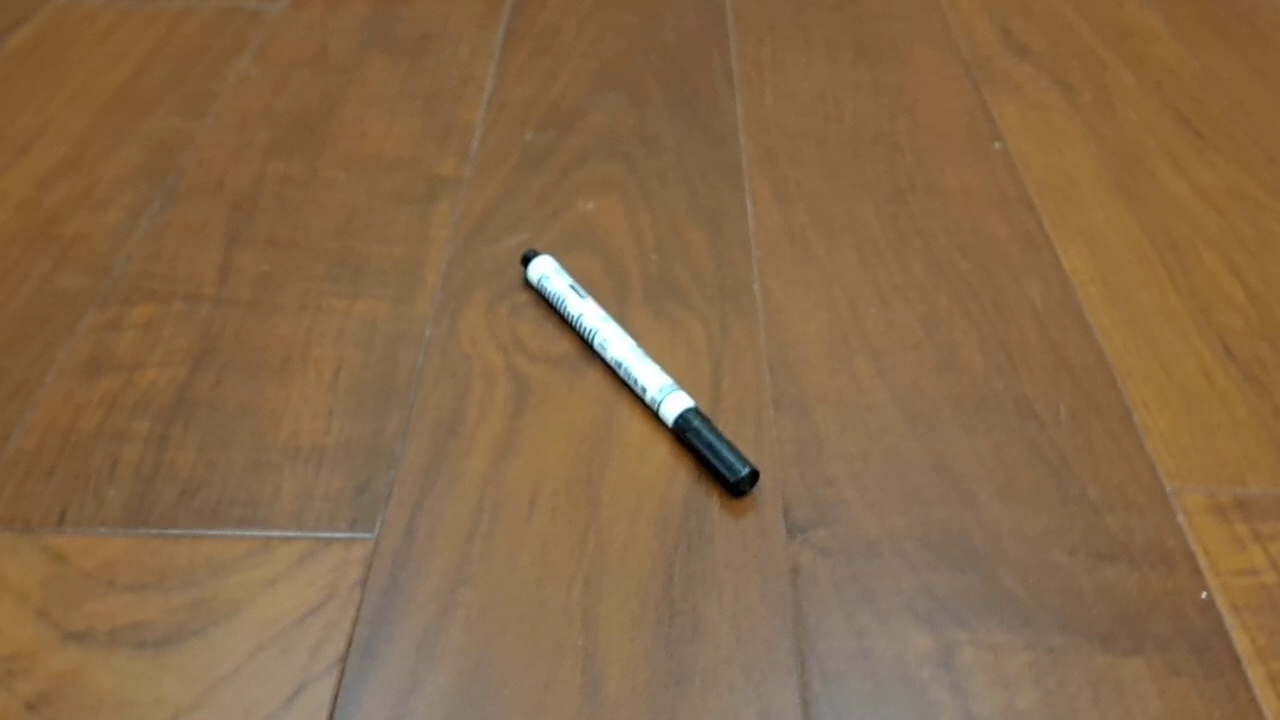pen: (520, 248, 761, 499)
